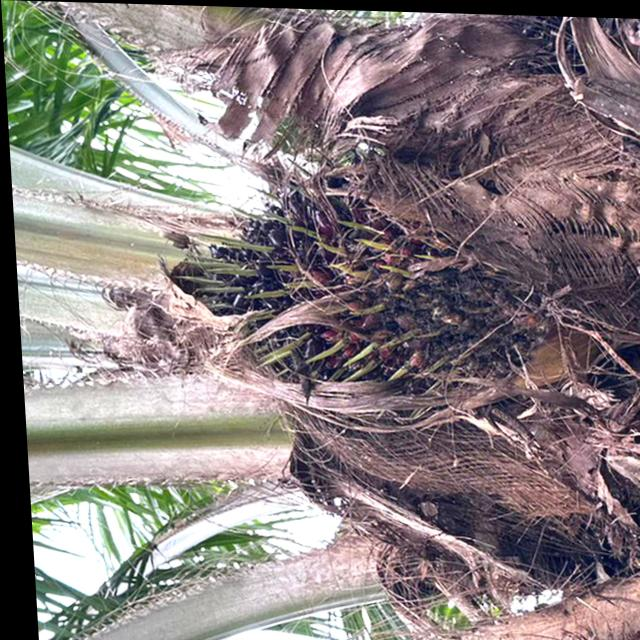unripe: (170, 150, 569, 455)
